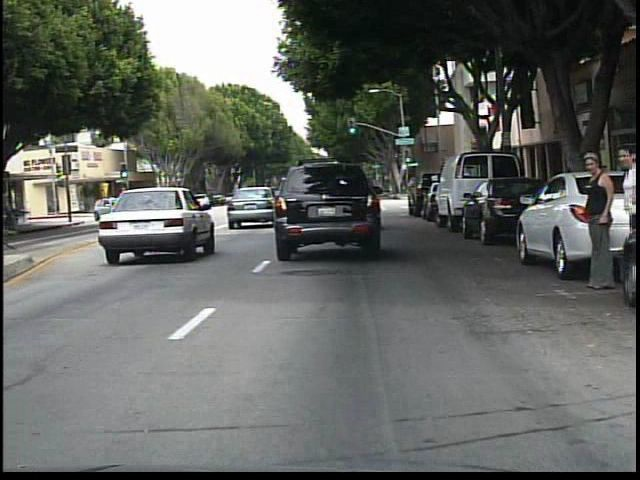person: (575, 150, 613, 294)
